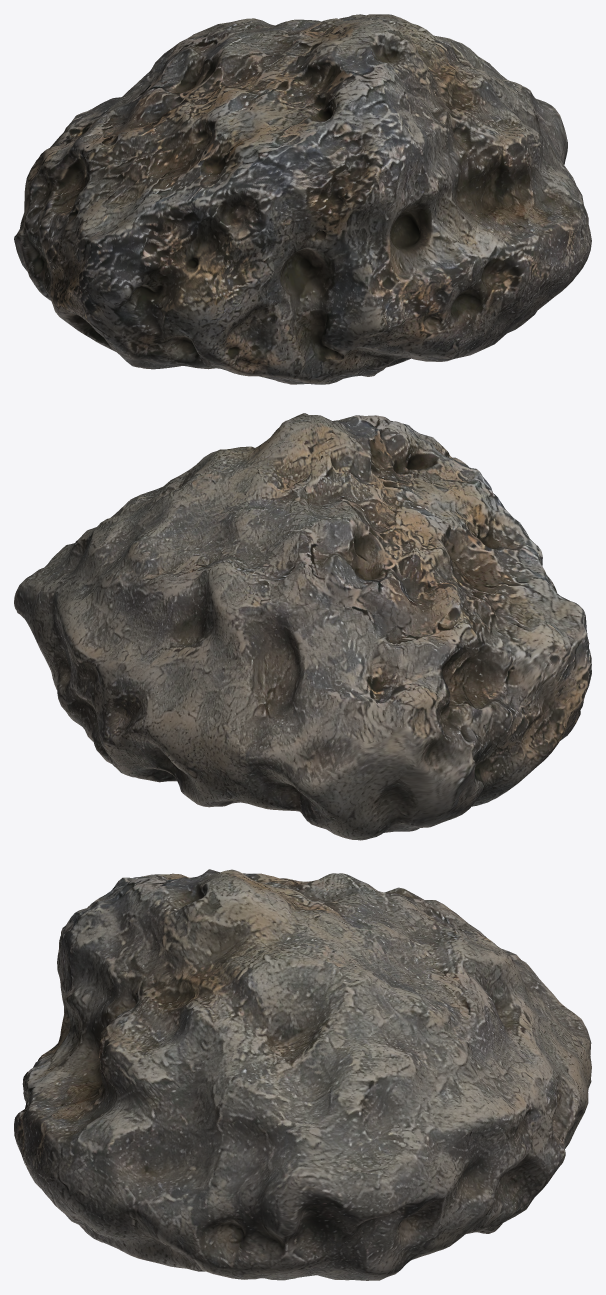
The model's file is asteroid_common_1.glb.
3 views of the same model, one above another, from view 1: azimuth 30°, elevation 25°; view 2: azimuth 150°, elevation 25°; view 3: azimuth 270°, elevation 25° (orthographic). The views are drawn at different scales.
Visible parts, largest first — view 1: model; view 2: model; view 3: model.
Boxes of the visible parts, left/top/right/bottom form: model: left=14, top=14, right=591, bottom=384; model: left=14, top=413, right=591, bottom=840; model: left=14, top=869, right=591, bottom=1280.
Bounding box in the file's own units: 1.89 × 1.16 × 1.67.
Materials: 1 (1 with a texture image).
